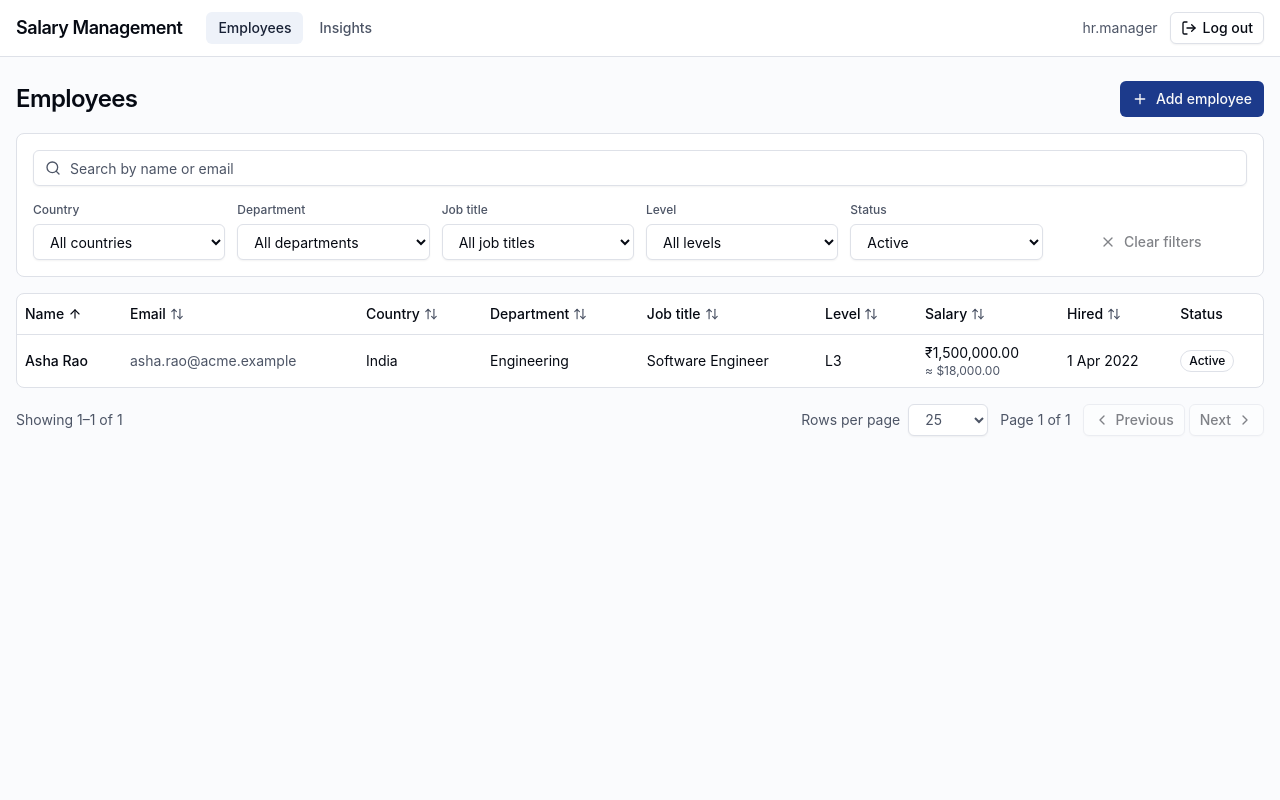
Scenario: employee detail page › is reached by clicking a name in the directory
The image size is (1280, 800).
Click the link "Asha Rao" at x=42, y=360, box [25,352,88,368]
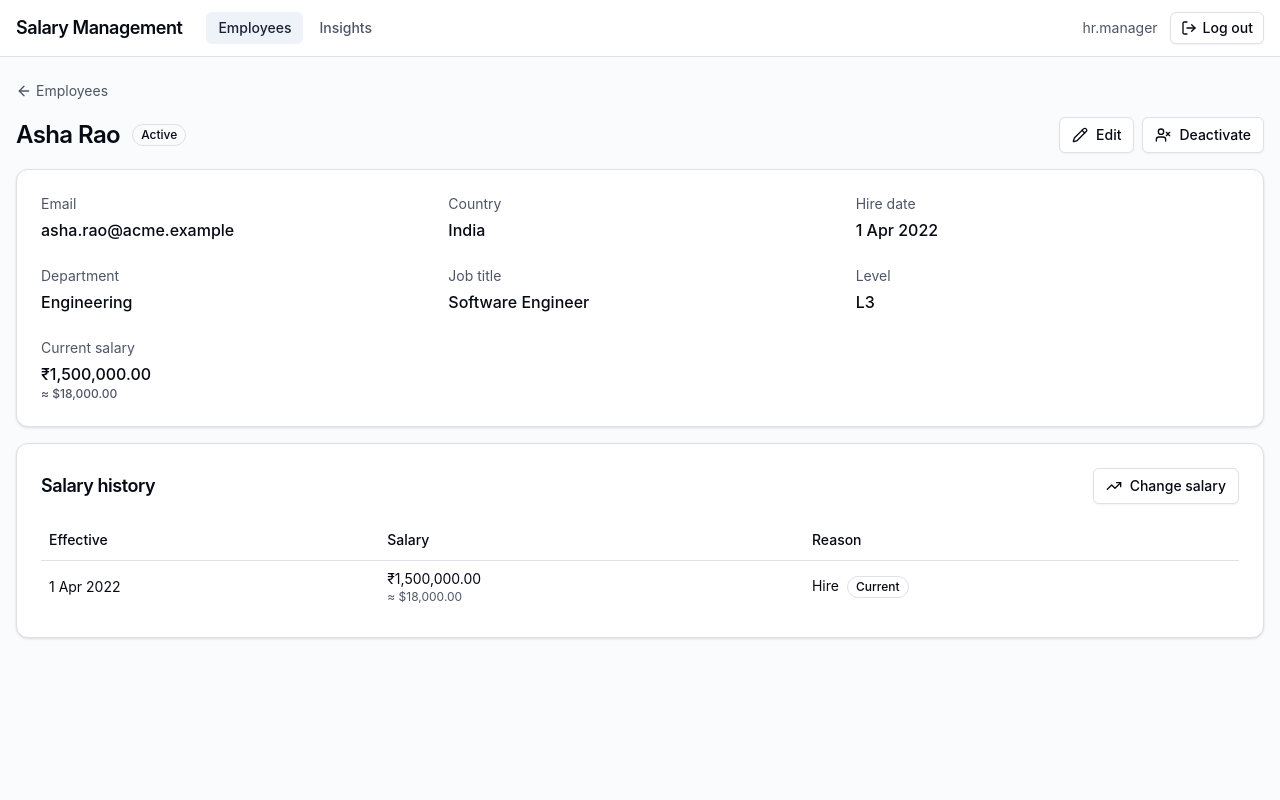
Expected: the link "Edit" is shown, [1059,117,1134,153]
